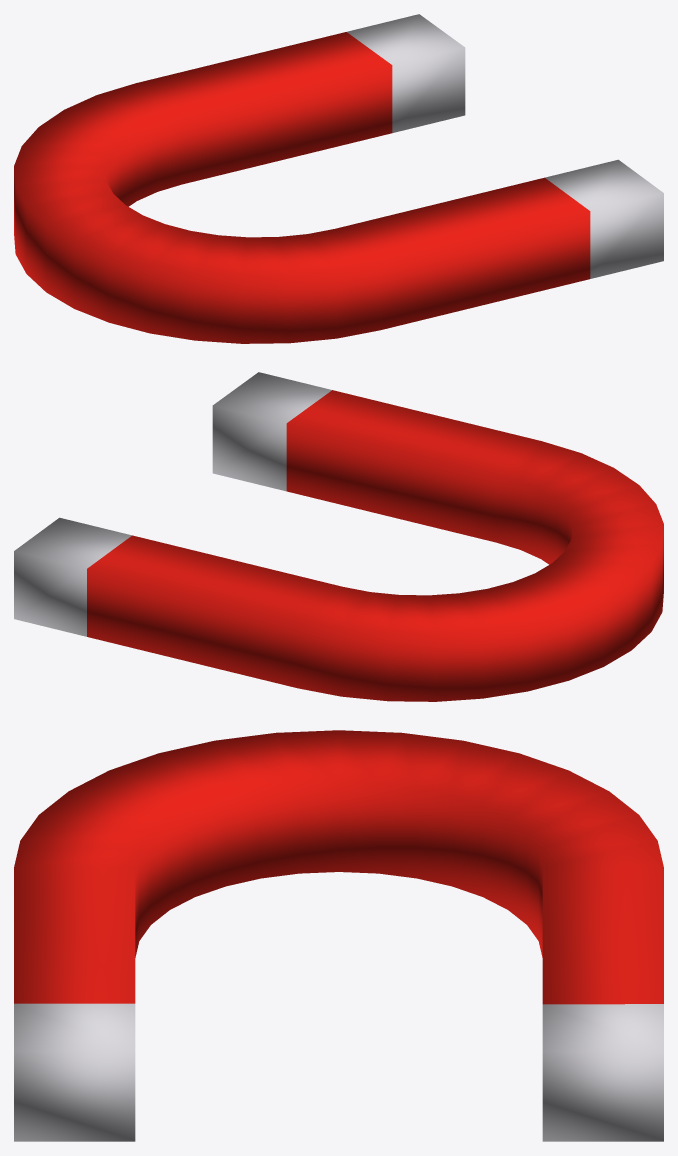
File: Magnet.fbx
3 renders of one model, top to bottom at view 1: azimuth 30°, elevation 25°; view 2: azimuth 150°, elevation 25°; view 3: azimuth 270°, elevation 25°, orthographic. The views are drawn at different scales.
Visible parts, largest first — view 1: Circle; view 2: Circle; view 3: Circle.
Boxes of the visible parts, left/top/right/bottom form: Circle: left=14, top=14, right=663, bottom=343; Circle: left=14, top=372, right=663, bottom=701; Circle: left=14, top=730, right=663, bottom=1141.
Size of the model in its own units: 234 by 30.65 by 200.
